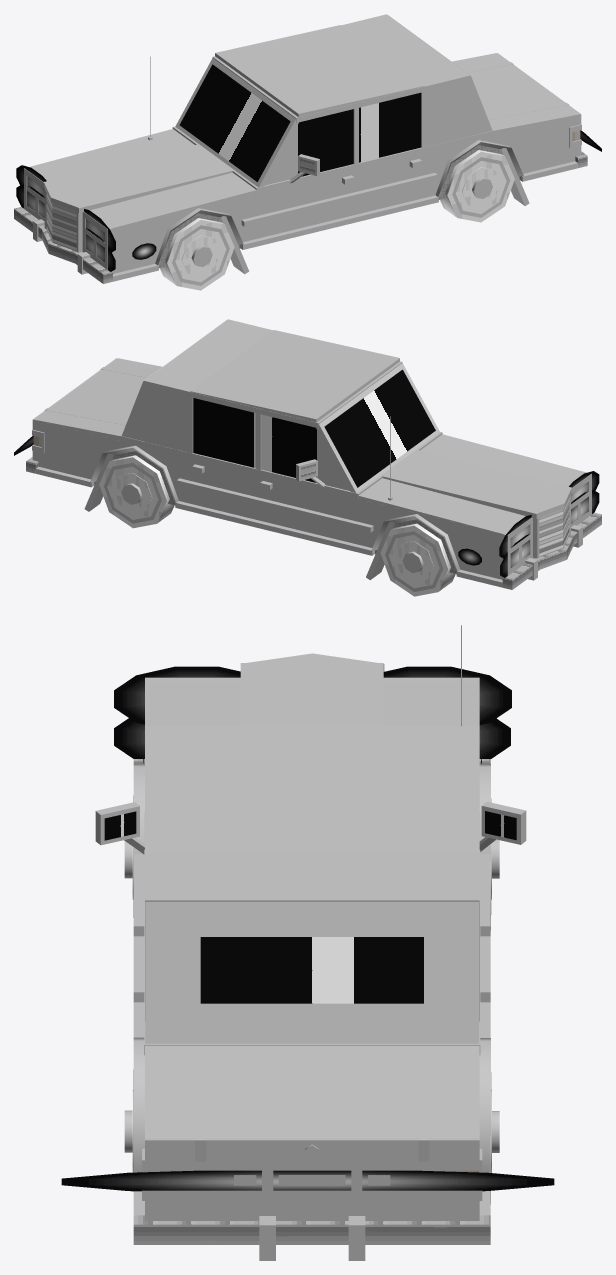
File: Car.fbx
3 views of the same model, one above another, from view 1: azimuth 30°, elevation 25°; view 2: azimuth 150°, elevation 25°; view 3: azimuth 270°, elevation 25° (orthographic). The views are drawn at different scales.
Parts seen in each view (by area): view 1: Node #180, Node #168, Node #108, Node #166, Node #156, Node #170, Node #106, Node #114, Node #14, Node #40, Node #164, Node #104 (+25 smaller); view 2: Node #180, Node #168, Node #108, Node #166, Node #156, Node #170, Node #106, Node #114, Node #0, Node #34, Node #164, Node #104 (+25 smaller); view 3: Node #168, Node #158, Node #114, Node #156, Node #174, Node #108, Node #60, Node #106, Node #206, Node #128, Node #142, Node #118 (+16 smaller).
Boxes of the visible parts, x1,y1,x2,y2 form: Node #180: [107, 117, 569, 273]; Node #168: [215, 25, 424, 117]; Node #108: [29, 129, 256, 228]; Node #166: [179, 64, 290, 181]; Node #156: [343, 14, 470, 146]; Node #170: [298, 92, 420, 176]; Node #106: [53, 144, 232, 210]; Node #114: [452, 53, 579, 135]; Node #14: [160, 218, 234, 290]; Node #40: [440, 150, 514, 222]; Node #164: [175, 58, 298, 187]; Node #104: [172, 126, 494, 193]; Node #180: [44, 422, 507, 579]; Node #168: [190, 330, 399, 422]; Node #108: [358, 434, 586, 534]; Node #166: [324, 369, 435, 487]; Node #156: [144, 319, 271, 452]; Node #170: [193, 398, 316, 482]; Node #106: [382, 450, 562, 515]; Node #114: [34, 358, 162, 440]; Node #0: [380, 523, 455, 596]; Node #34: [99, 455, 174, 528]; Node #164: [316, 363, 439, 493]; Node #104: [119, 432, 442, 498]; Node #168: [145, 726, 478, 853]; Node #158: [145, 902, 478, 1043]; Node #114: [145, 1045, 479, 1137]; Node #156: [145, 857, 479, 1021]; Node #174: [200, 937, 423, 1003]; Node #108: [145, 682, 479, 730]; Node #60: [133, 1215, 490, 1244]; Node #106: [240, 672, 383, 726]; Node #206: [61, 1170, 554, 1191]; Node #128: [145, 1138, 479, 1160]; Node #142: [145, 1201, 479, 1220]; Node #118: [142, 1148, 482, 1170].
Size of the model in its own units: 51.78 by 16.5 by 22.06.
Materials: 37 (37 with a texture image).
